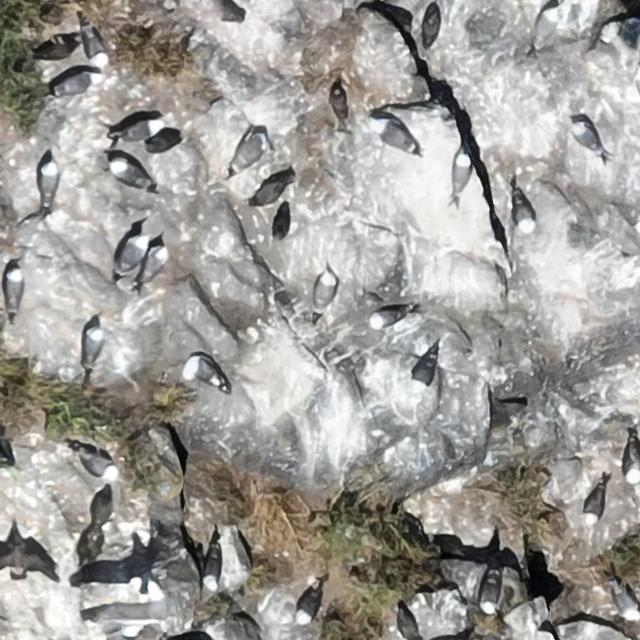umineko: (223, 132, 267, 177), (183, 354, 230, 394), (49, 71, 104, 100), (110, 117, 168, 144), (80, 449, 118, 483), (110, 160, 147, 187), (119, 237, 142, 274), (40, 158, 59, 200), (380, 124, 410, 150), (85, 30, 106, 65), (202, 549, 220, 589), (6, 269, 24, 308), (514, 196, 534, 231), (573, 123, 598, 151), (537, 9, 557, 44), (84, 325, 102, 363), (298, 587, 318, 621), (625, 436, 639, 484), (584, 489, 604, 522), (146, 248, 167, 279), (314, 274, 333, 308), (412, 358, 432, 389), (617, 588, 638, 617), (451, 154, 468, 188), (481, 579, 497, 612), (372, 309, 402, 325)
